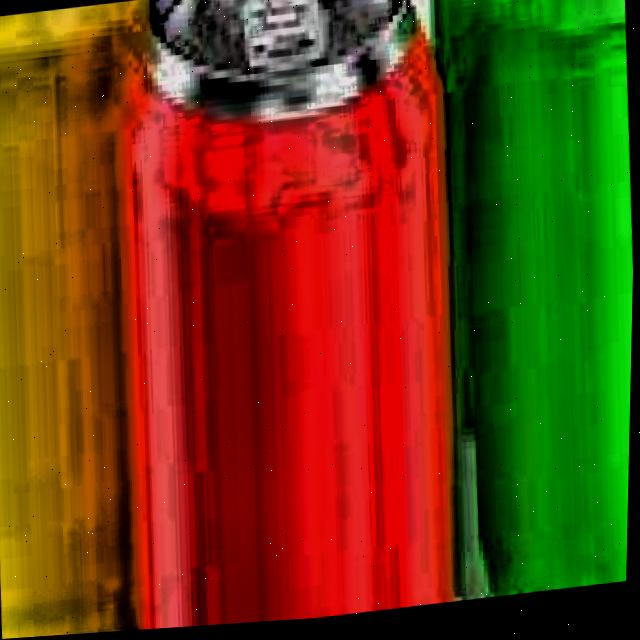metal: (90, 0, 478, 635), (394, 0, 640, 613), (0, 0, 229, 640)
